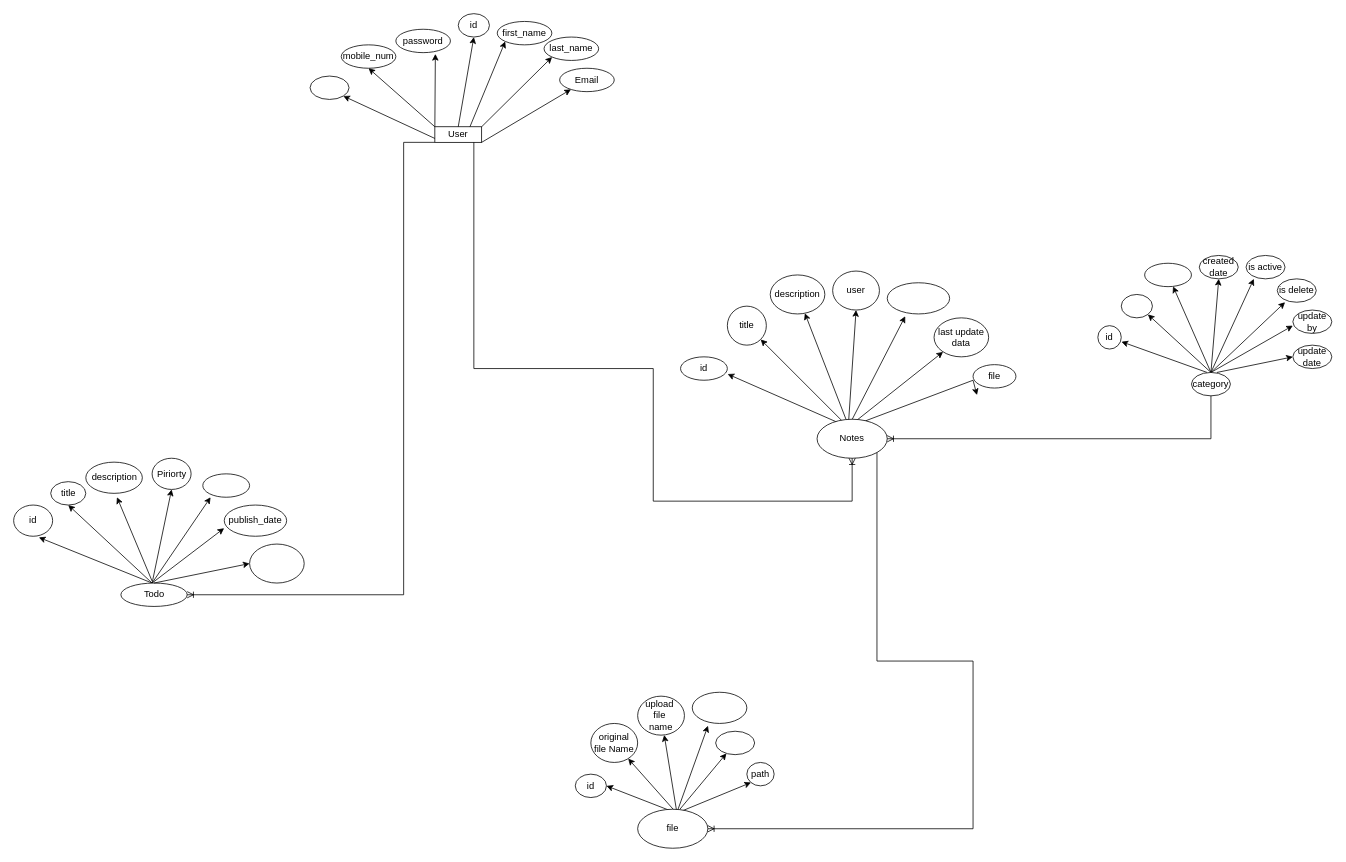
Some shapes in this 1346 by 862 pixel diagram are drawn without their labels. Each missing label, with the centre of its shape:
created by: the point at 1167,274
Display file name: the point at 719,707
file_size: the point at 735,742
last update date: the point at 276,563
name: the point at 1136,306
public_date: the point at 918,298
Roles: the point at 329,87
status: the point at 226,485
